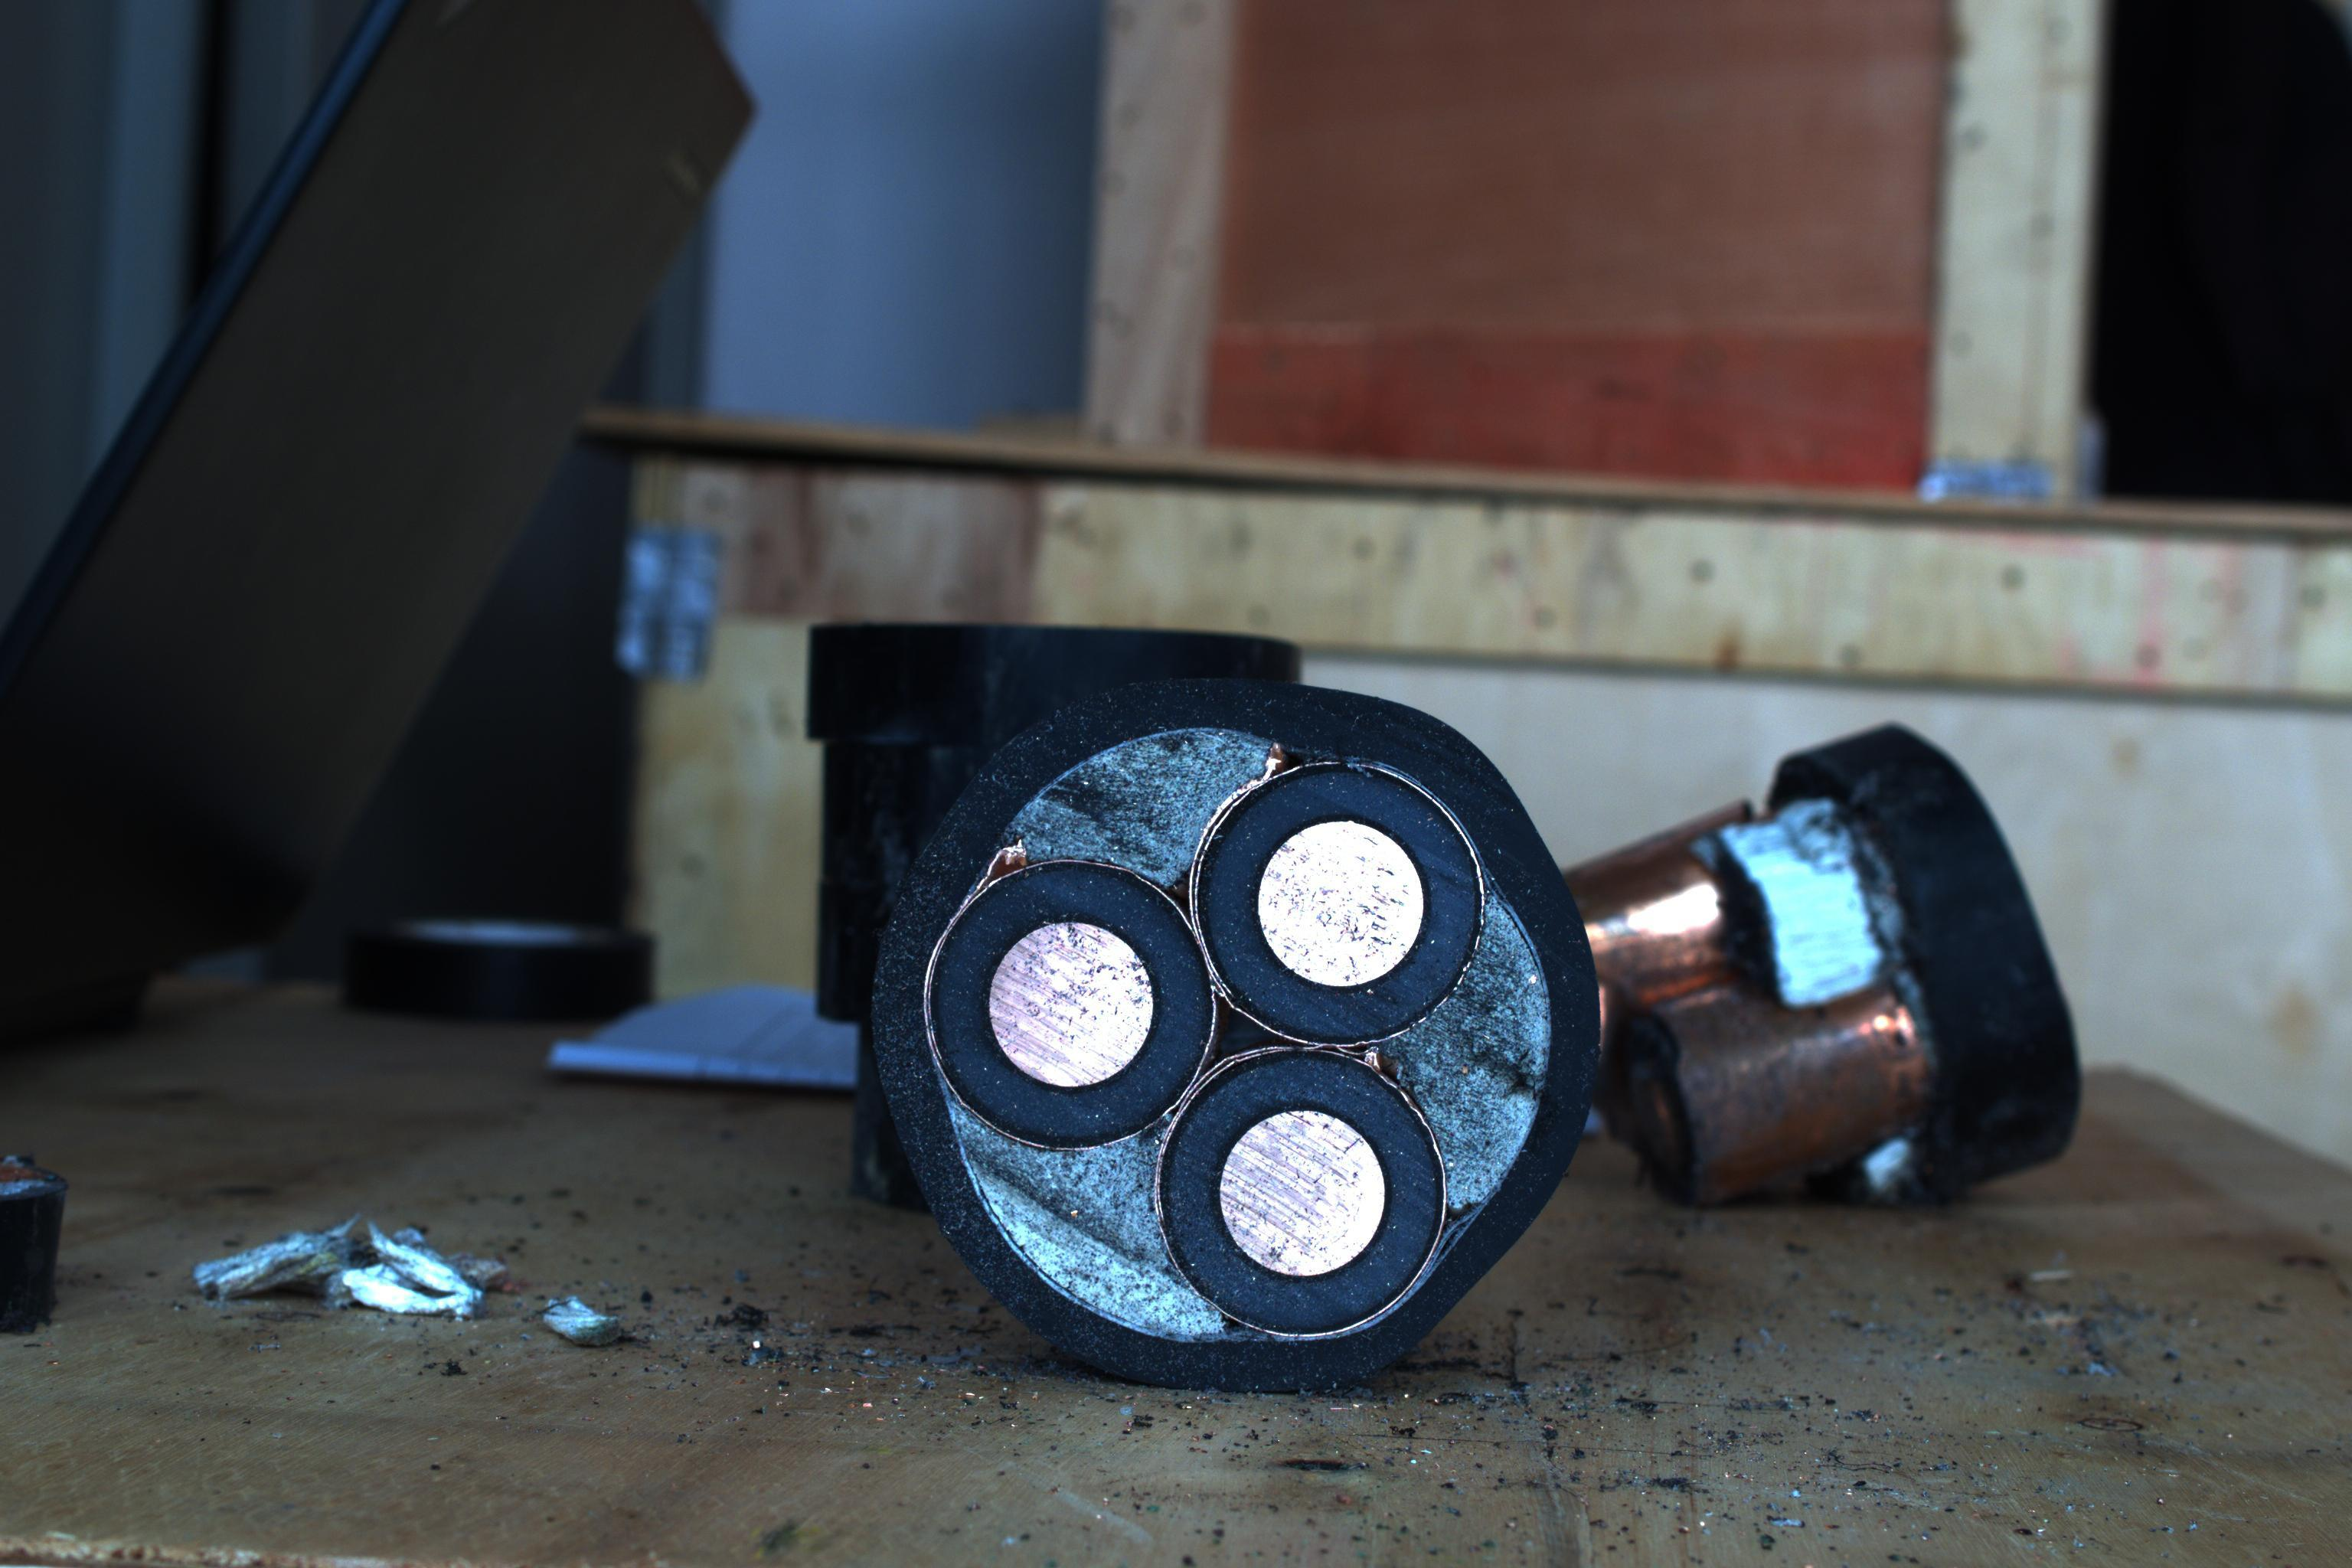ZA_YJV_8.7_10kV_3x240: (857, 668, 1598, 1393)
